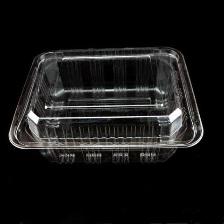plastic_box: (0, 38, 212, 169)
